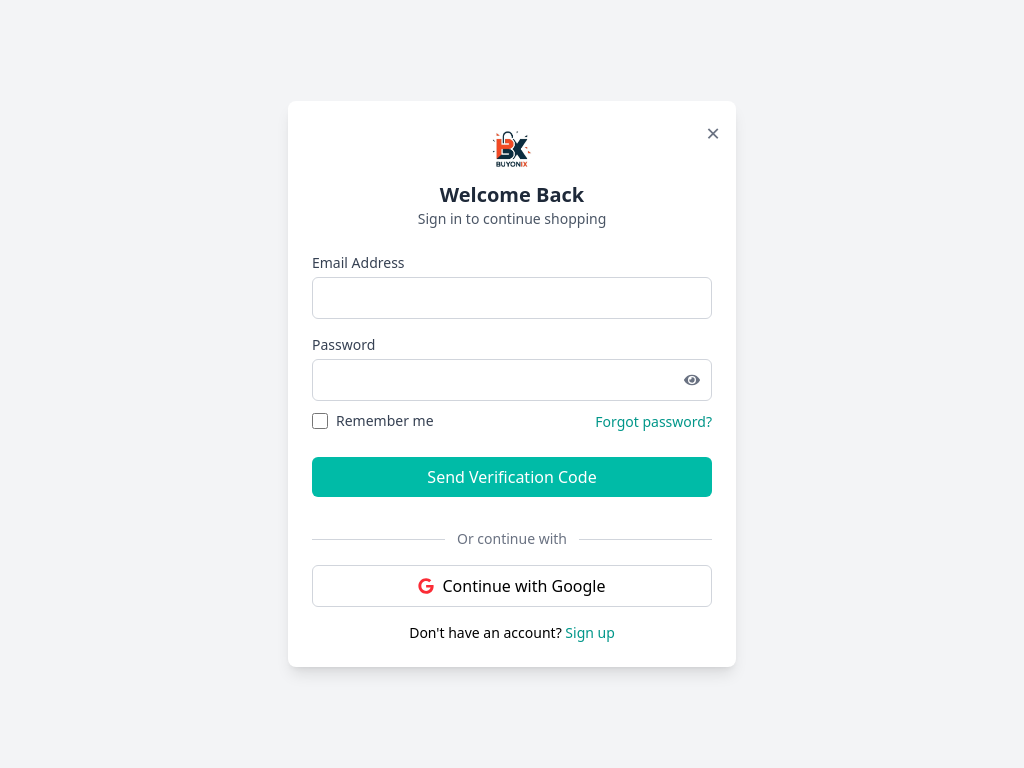
Test: Authentication Flow Integration Tests › Login Flow › should display error and stay on credentials step when login fails
In the field labelled "Email Address": (512, 298) [312,277,712,319], type "bad@example.com"
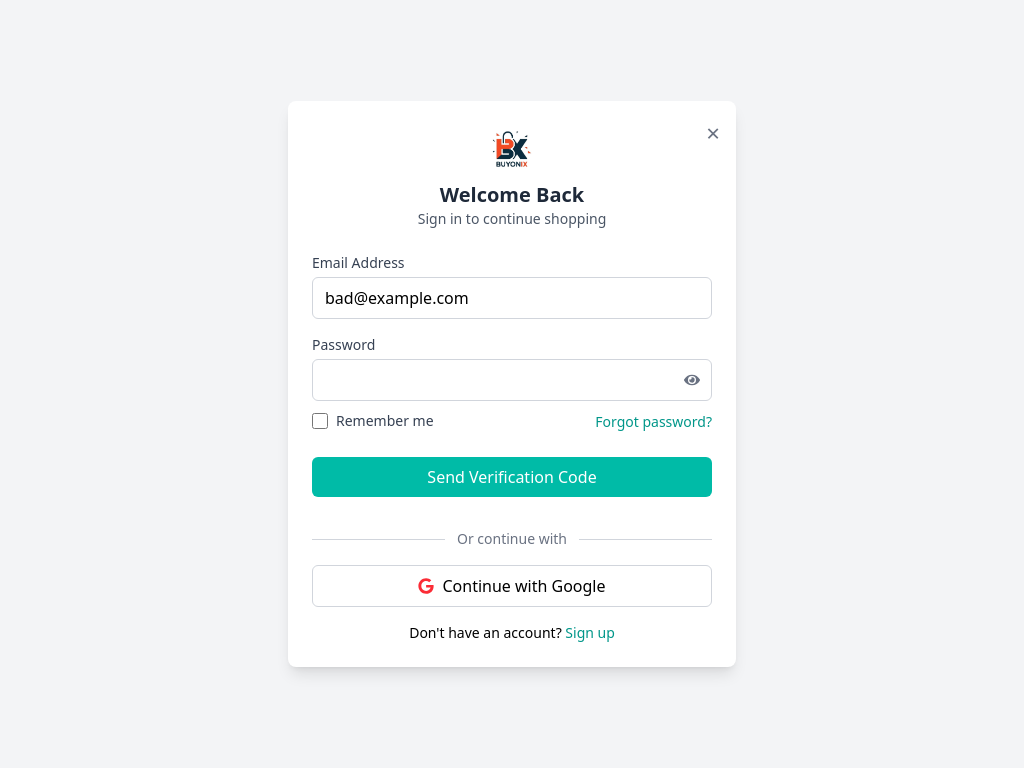
In the password field labelled "Password": (512, 380) [312,359,712,401], type "wrongpass"
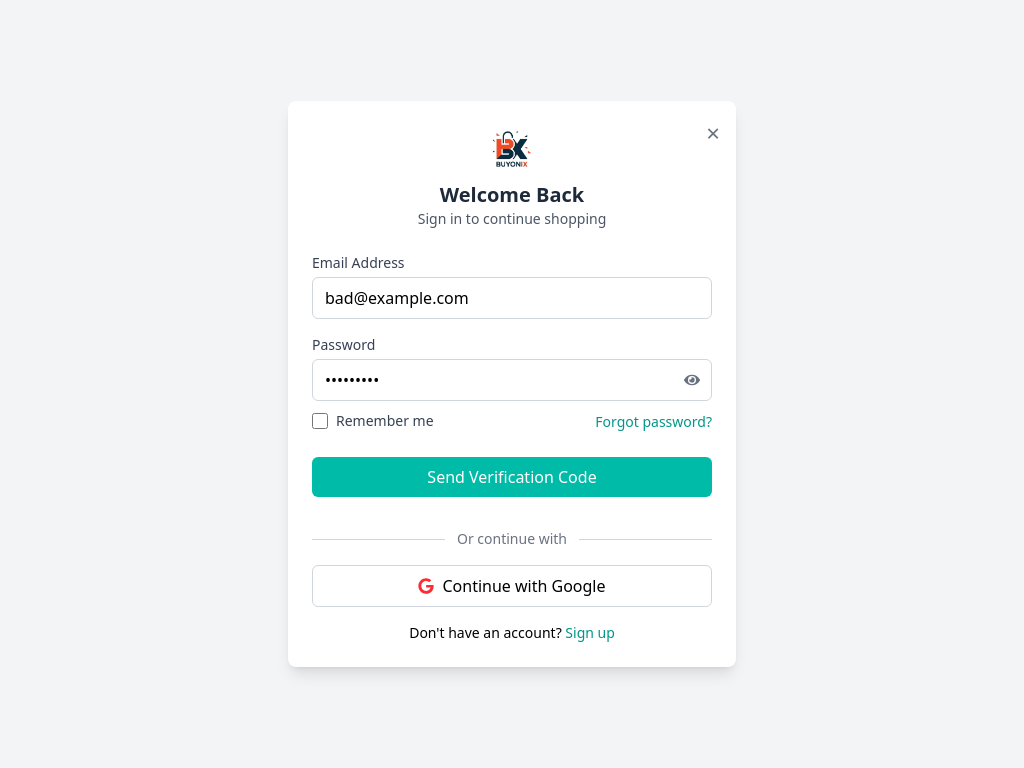
Click the button "Send Verification Code": (512, 477) [312,457,712,497]
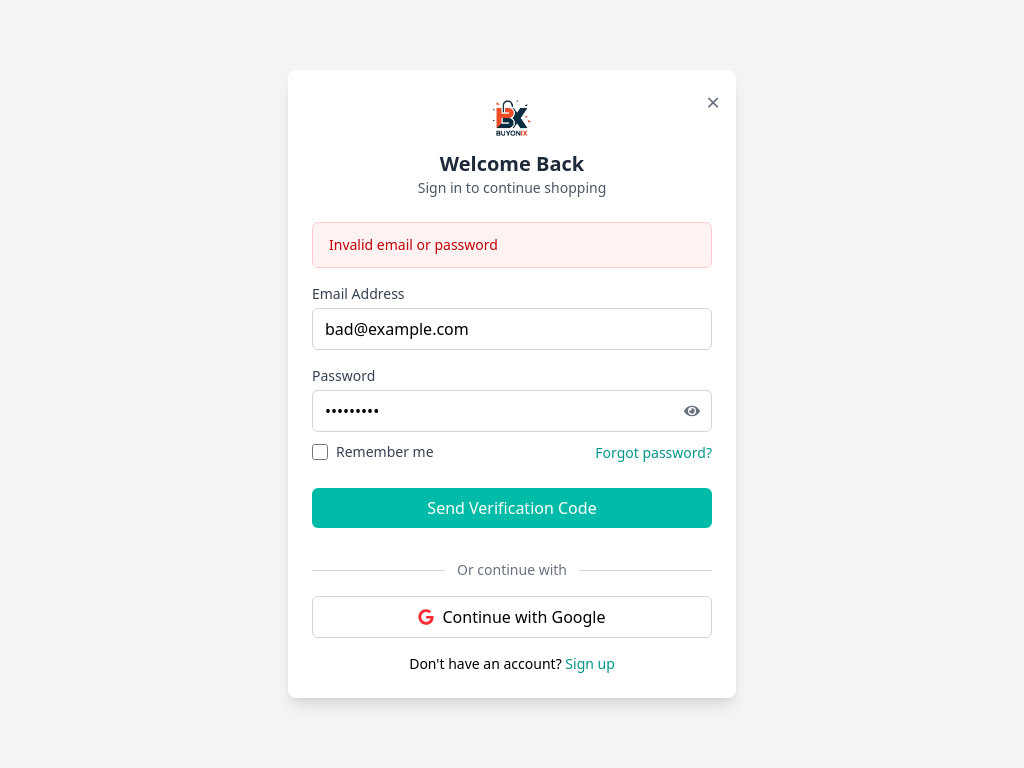
Check: the heading "Welcome Back" is shown, box [440,150,584,178]
Check: the text "Invalid email or password" is shown, box [312,222,712,268]
